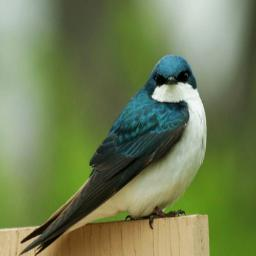Swallow: (16, 53, 210, 256)
